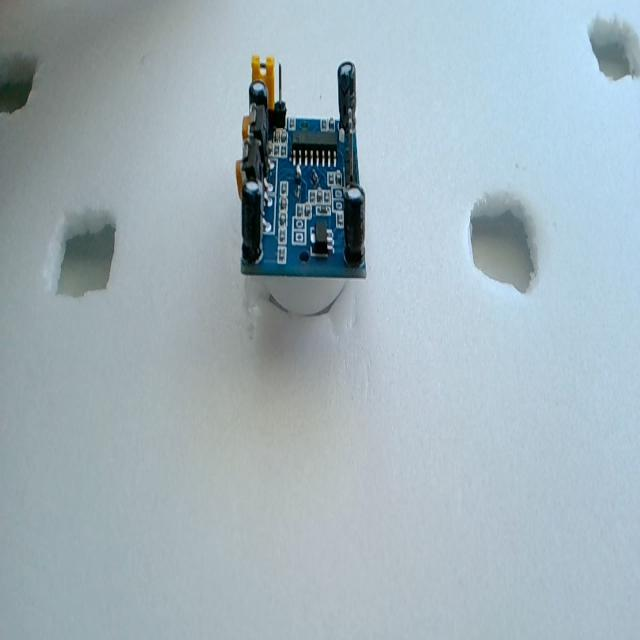Electrolytic capacitor: (343, 186, 366, 264), (242, 179, 262, 260), (338, 61, 357, 126), (248, 80, 268, 123)
IC: (290, 128, 337, 166)
pinheader: (341, 122, 362, 186)
